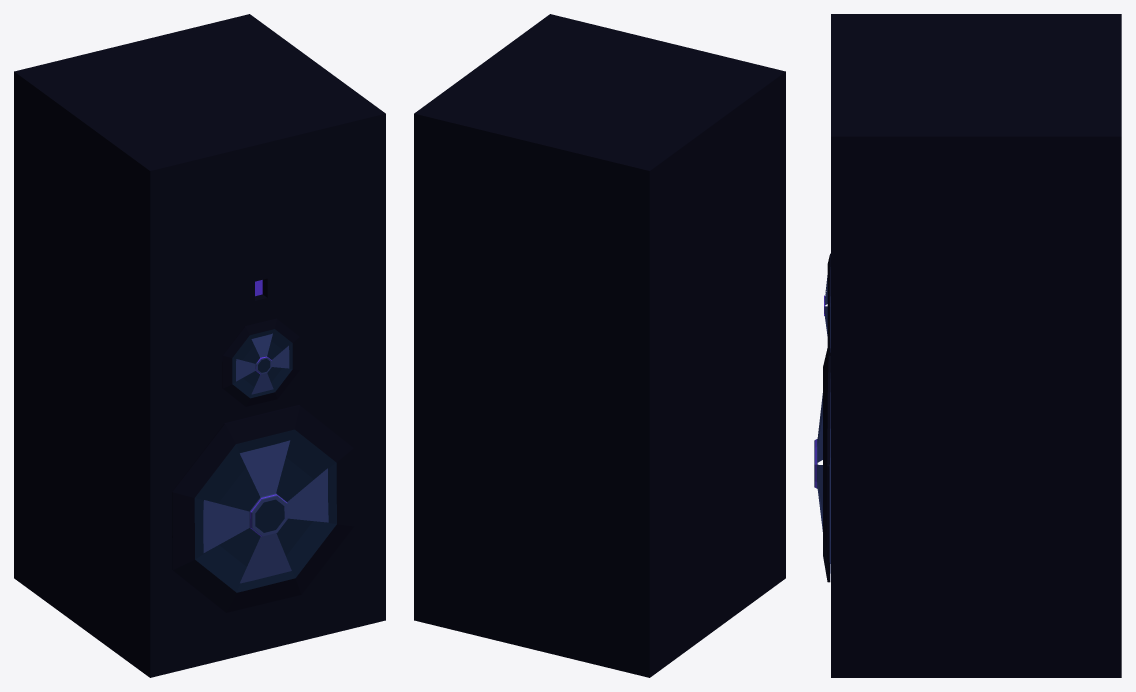
Rendered from RivenRoom_Speakers_TrebleBass.fbx.
3 views of the same model, side by side, from view 1: azimuth 30°, elevation 25°; view 2: azimuth 150°, elevation 25°; view 3: azimuth 270°, elevation 25° (orthographic). The views are drawn at different scales.
Parts seen in each view (by area): view 1: Cube.166; view 2: Cube.166; view 3: Cube.166.
Boxes of the visible parts, x1=… form: Cube.166: x1=14, y1=14, x2=385, y2=677; Cube.166: x1=414, y1=14, x2=785, y2=677; Cube.166: x1=814, y1=14, x2=1121, y2=677.
Size of the model in its own units: 28.83 by 59.23 by 30.48.
